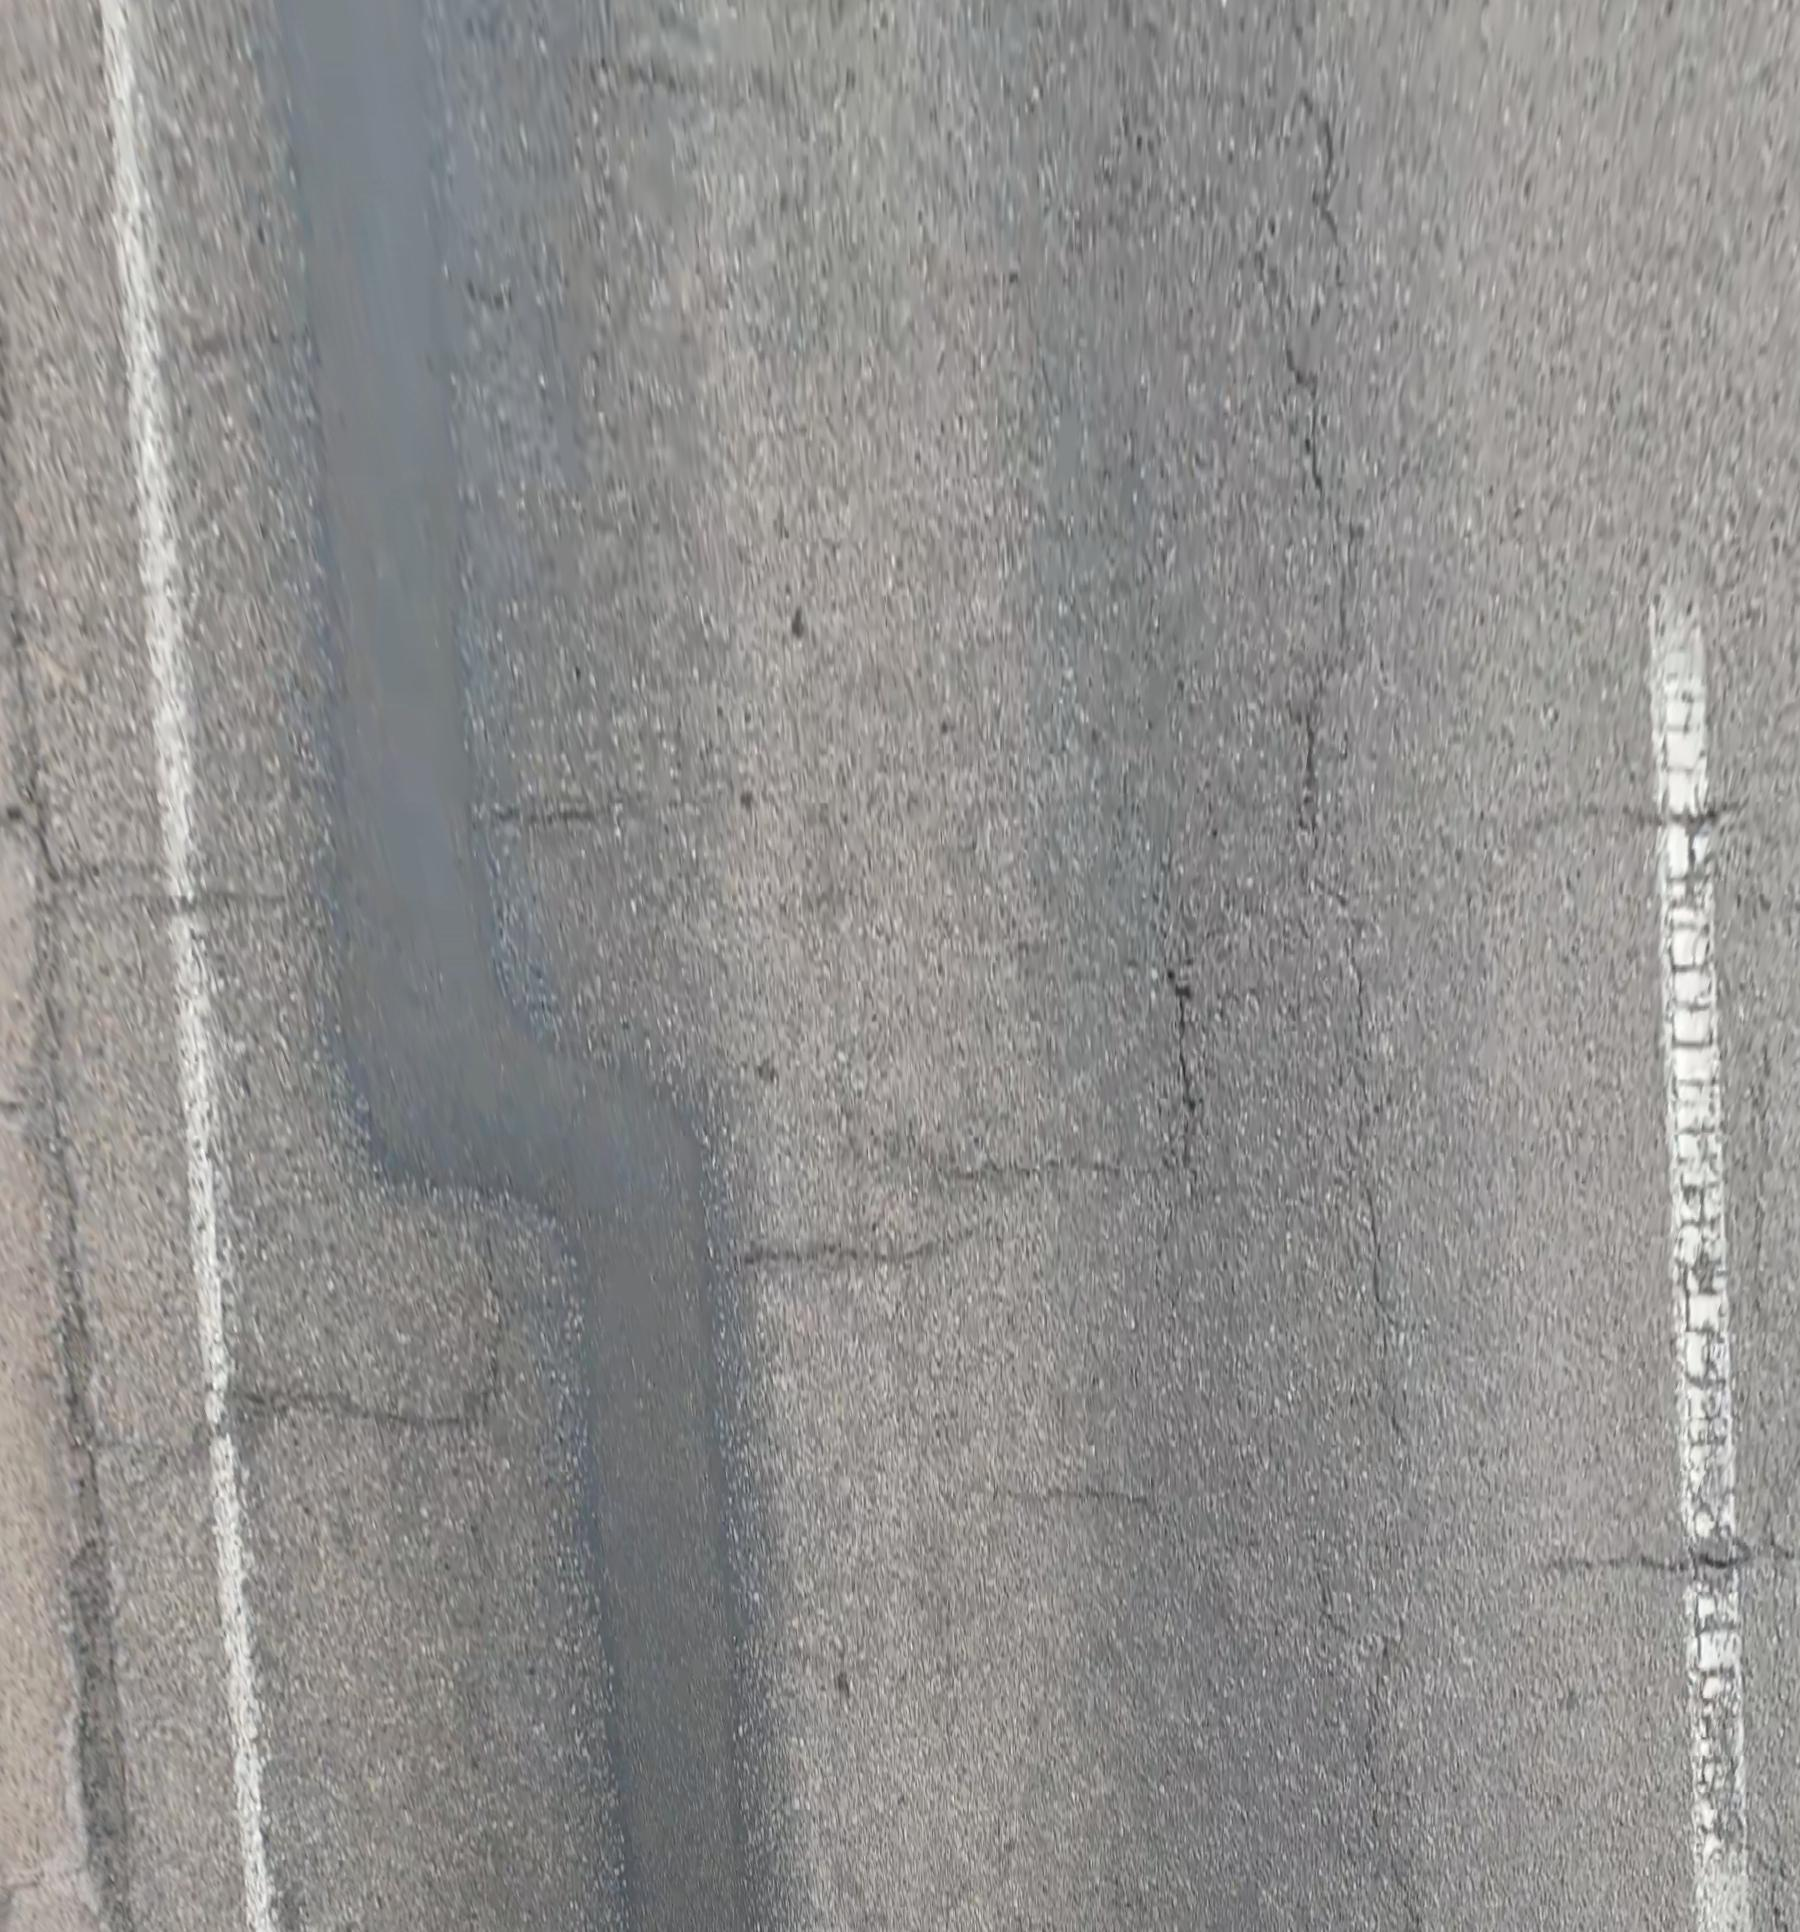pothole_patch_good: (276, 0, 749, 1932)
